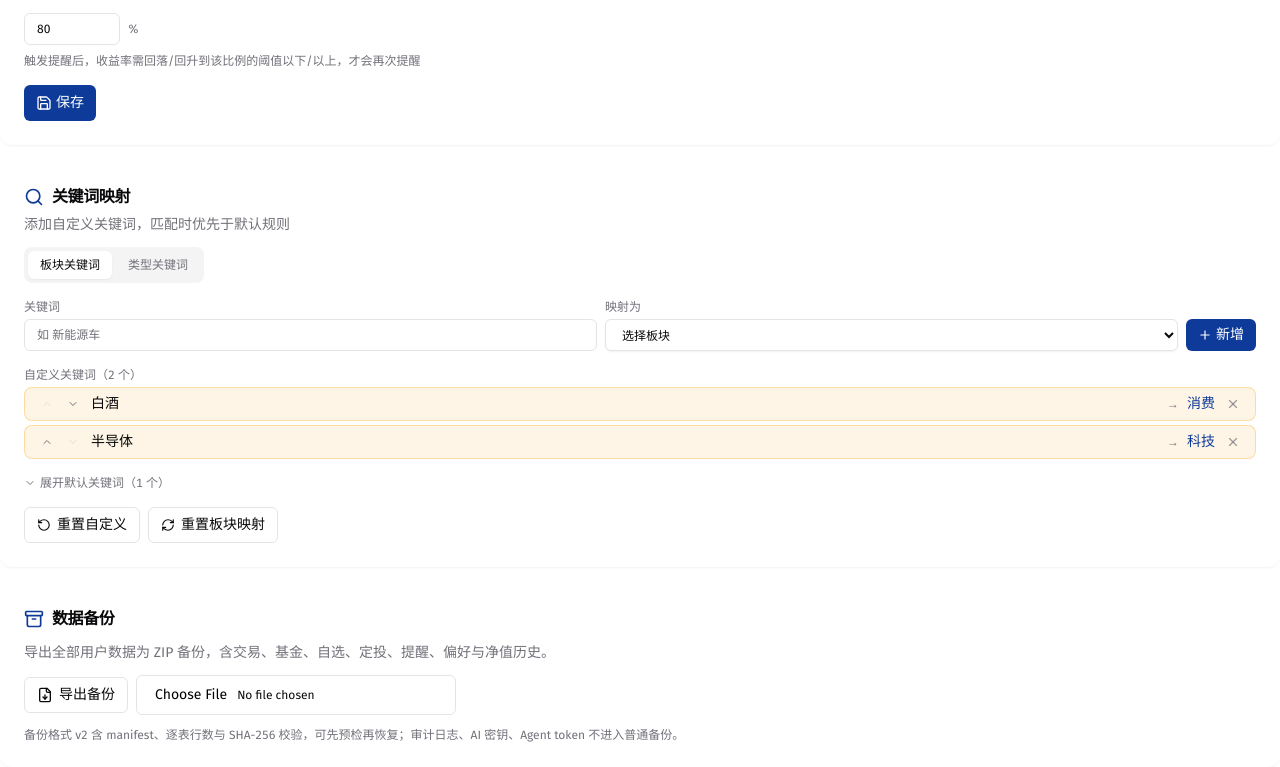
Test case: Settings 自定义关键词保存失败处理 › 重置保存成功：toast.success 并清空自定义关键词
(page scrolled)
Expected: the text "关键词映射" is shown, [24,187,130,207]
Click the button "重置自定义": coordinates (82, 525) [24,507,140,543]
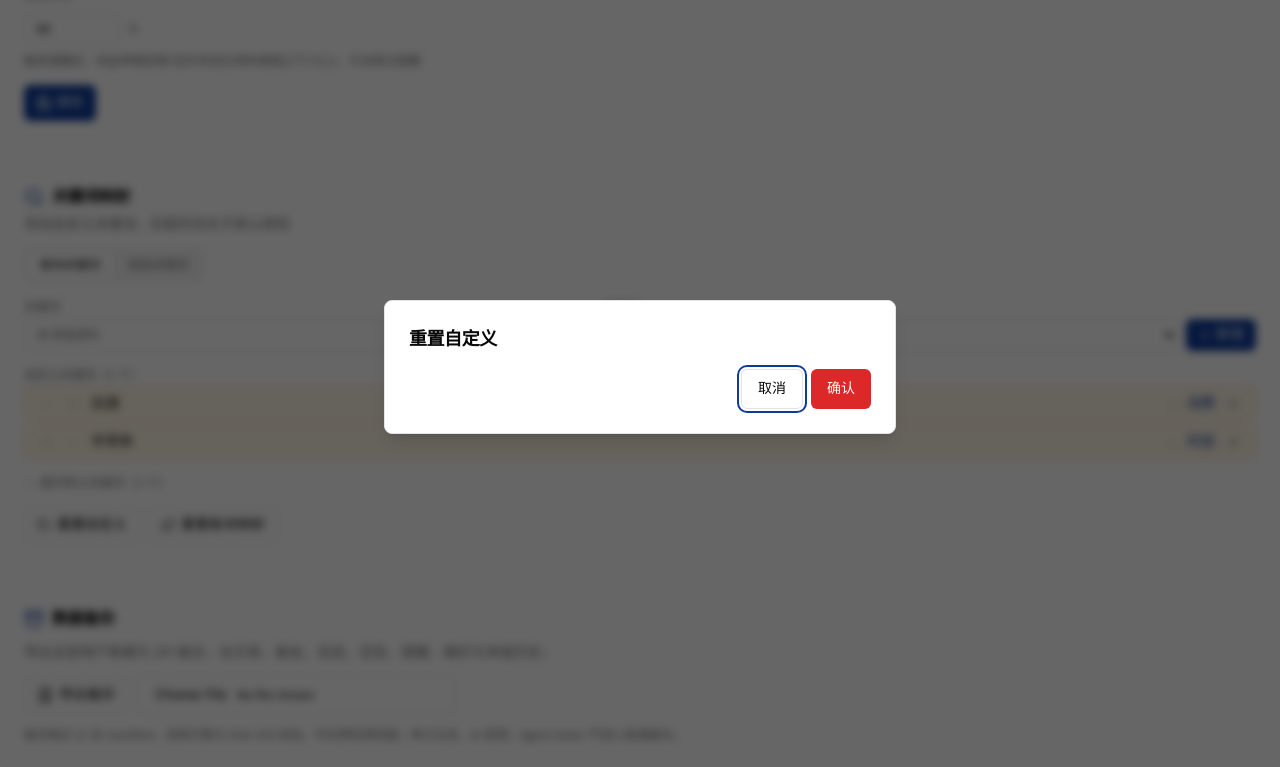
Click the button "确认": coordinates (841, 389) [811,369,871,409]
(page scrolled)
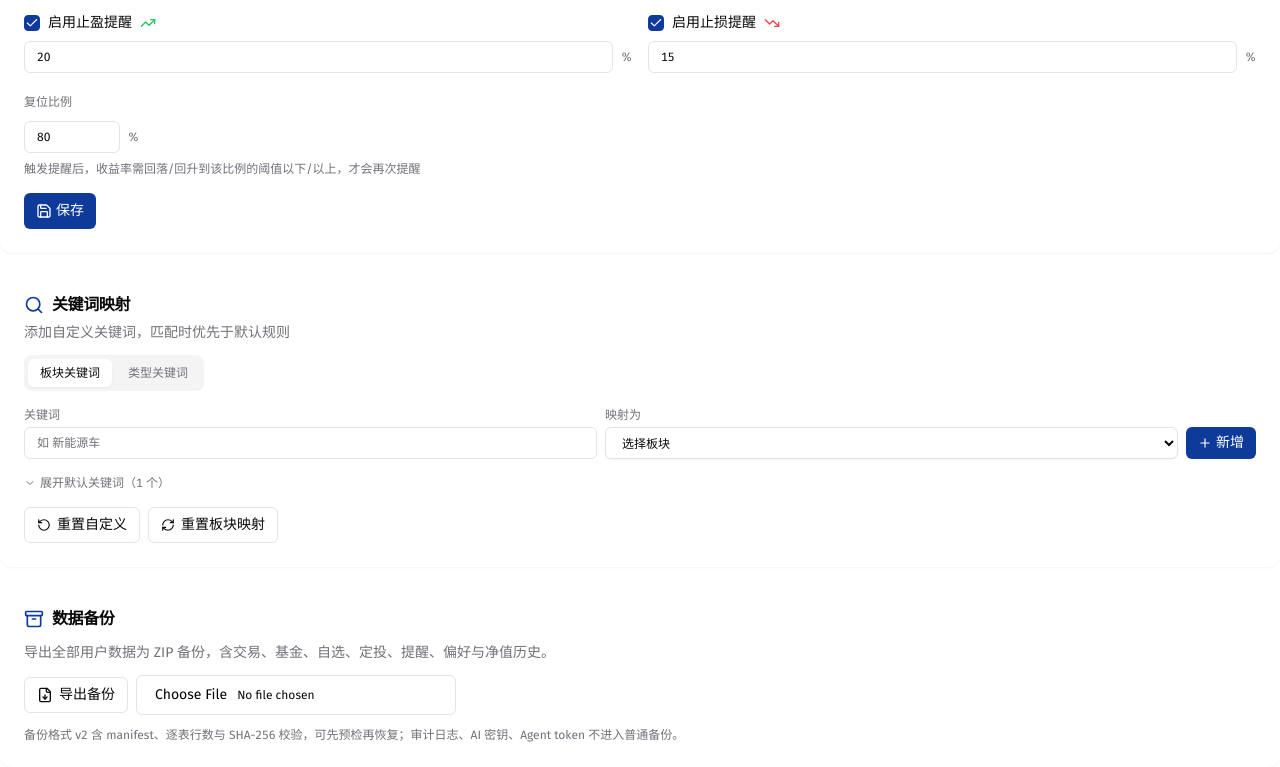
Now the text "白酒" is gone
